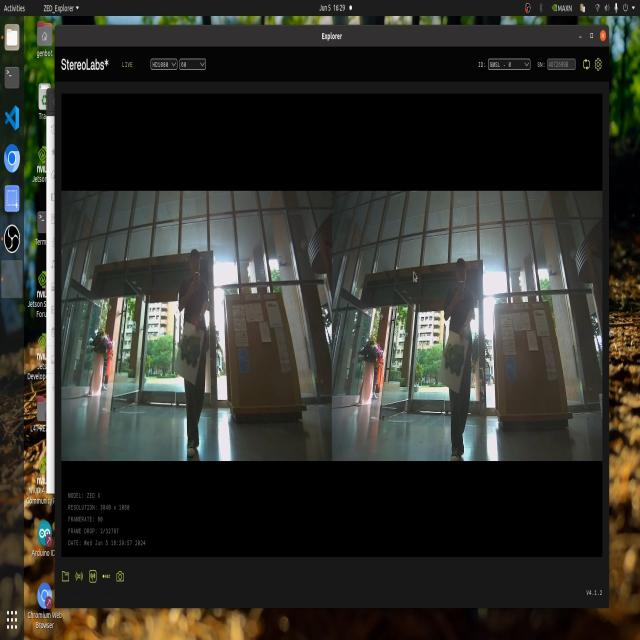green: (441, 330, 468, 380), (182, 329, 206, 376)
